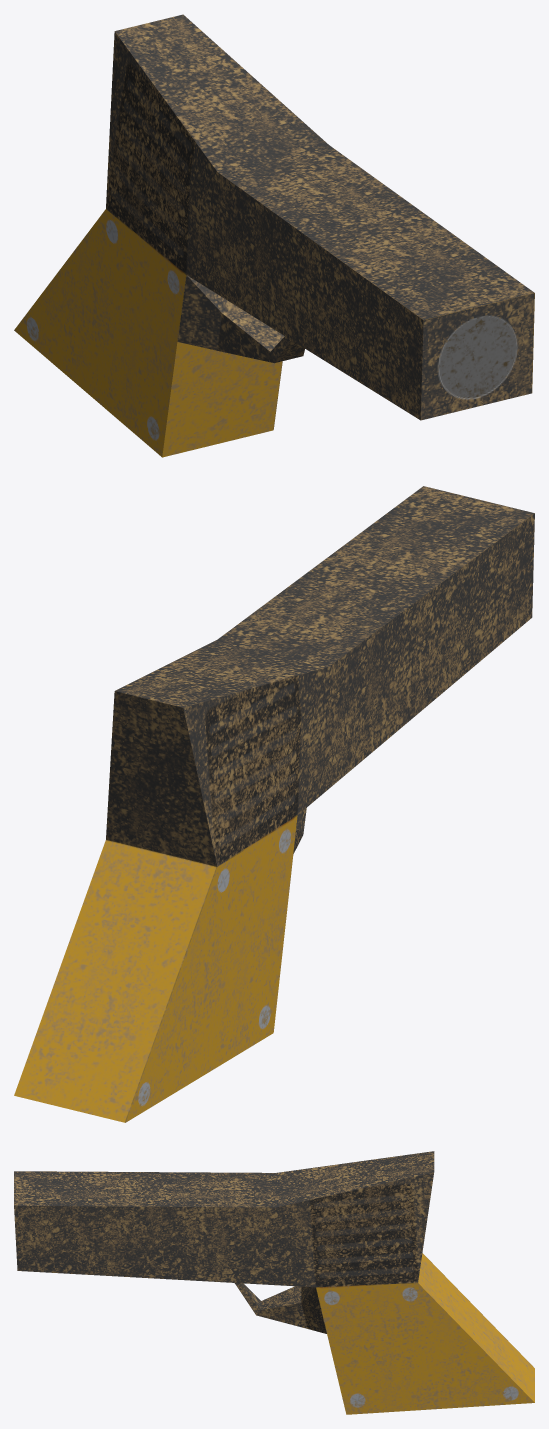
Rendered from gun.fbx.
3 renders of one model, top to bottom at view 1: azimuth 30°, elevation 25°; view 2: azimuth 150°, elevation 25°; view 3: azimuth 270°, elevation 25°, orthographic. The views are drawn at different scales.
Parts seen in each view (by area): view 1: pCube1; view 2: pCube1; view 3: pCube1.
Boxes of the visible parts, left/top/right/bottom form: pCube1: left=14, top=14, right=534, bottom=457; pCube1: left=14, top=486, right=534, bottom=1122; pCube1: left=14, top=1151, right=534, bottom=1414.
Size of the model in its own units: 1.74 by 5.53 by 11.08.
Materials: 1 (1 with a texture image).
